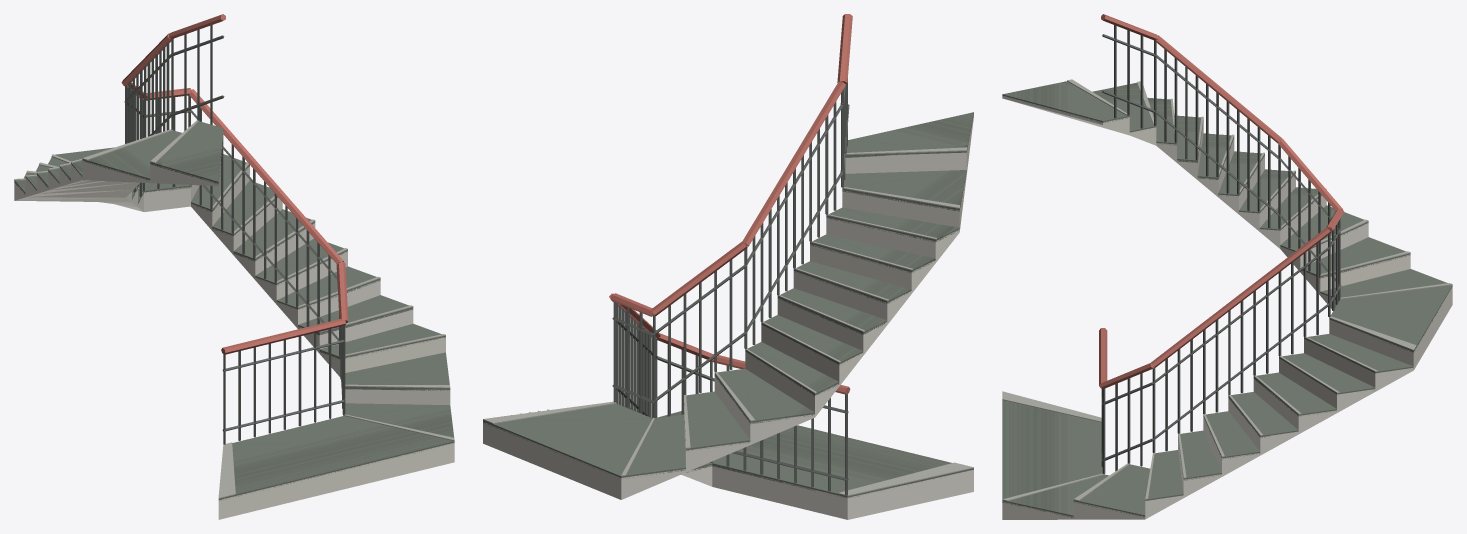
Rendered from liangyou-angular-three-flight-stair-far.glb.
The picture shows the model from 3 angles, left to right: view 1: azimuth 30°, elevation 25°; view 2: azimuth 150°, elevation 25°; view 3: azimuth 270°, elevation 25°; orthographic projection. The views are drawn at different scales.
Parts seen in each view (by area): view 1: 良友公寓多边形楼梯井与折角木扶手; view 2: 良友公寓多边形楼梯井与折角木扶手; view 3: 良友公寓多边形楼梯井与折角木扶手.
Boxes of the visible parts, x1,y1,x2,y2 form: 良友公寓多边形楼梯井与折角木扶手: (14,14,454,519); 良友公寓多边形楼梯井与折角木扶手: (483,14,973,519); 良友公寓多边形楼梯井与折角木扶手: (1002,14,1452,519).
Size of the model in its own units: 3.57 by 4.22 by 4.06.
Materials: 5 (1 with a texture image).
